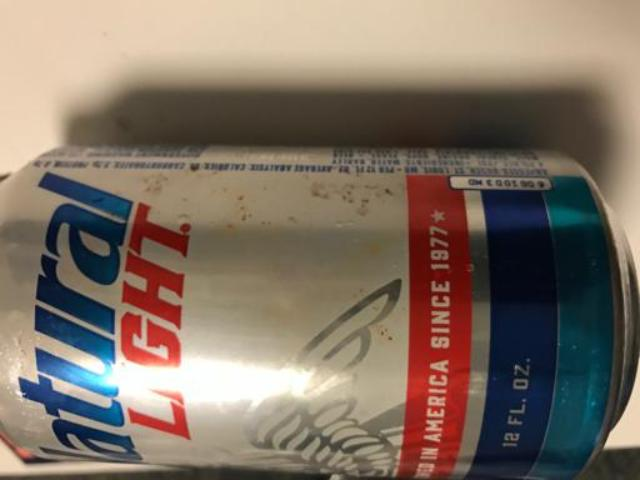metal: (0, 145, 636, 475)
